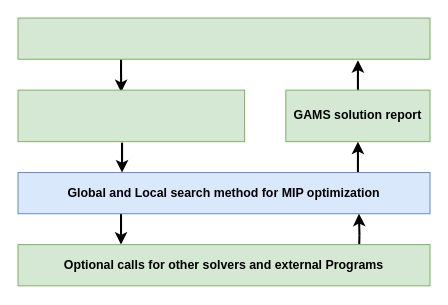
Some shapes in this 448 by 305 pixel diagram are drawn without their labels. Here are the shapes that lost their labels. From the top down, the centre of each, then its label:
At pixel 223 38: "Optimization Model Formulation in GAMS".
At pixel 131 115: "Model description, preprocessing, solver".
